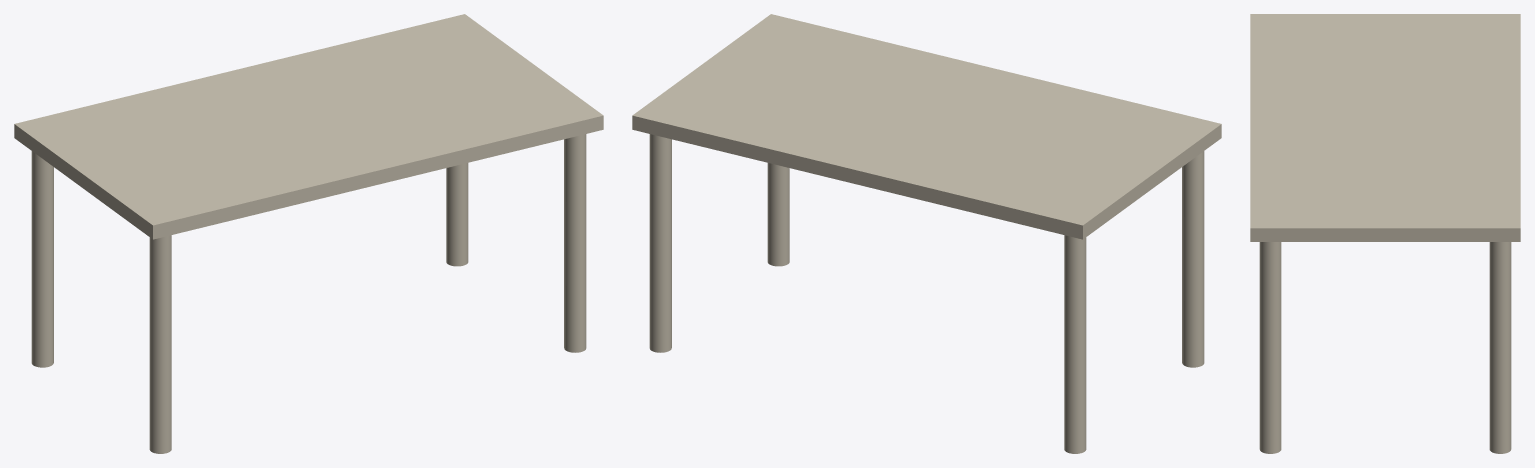
Rendered from vidaxl-outdoor-45910-g2-proxy.glb.
3 renders of one model, left to right at view 1: azimuth 30°, elevation 25°; view 2: azimuth 150°, elevation 25°; view 3: azimuth 270°, elevation 25°, orthographic. The views are drawn at different scales.
Parts seen in each view (by area): view 1: proxy_body, leg (×4); view 2: proxy_body, leg (×4); view 3: proxy_body, leg (×2).
Part boxes in pixels (x1,y1,x2,y2): proxy_body: (14,14,603,239); leg (×4): (31,134,586,453); proxy_body: (632,14,1221,239); leg (×4): (649,134,1204,453); proxy_body: (1250,14,1520,241); leg (×2): (1259,242,1511,453).
Bounding box in the file's own units: 1.5 × 0.75 × 0.8.
